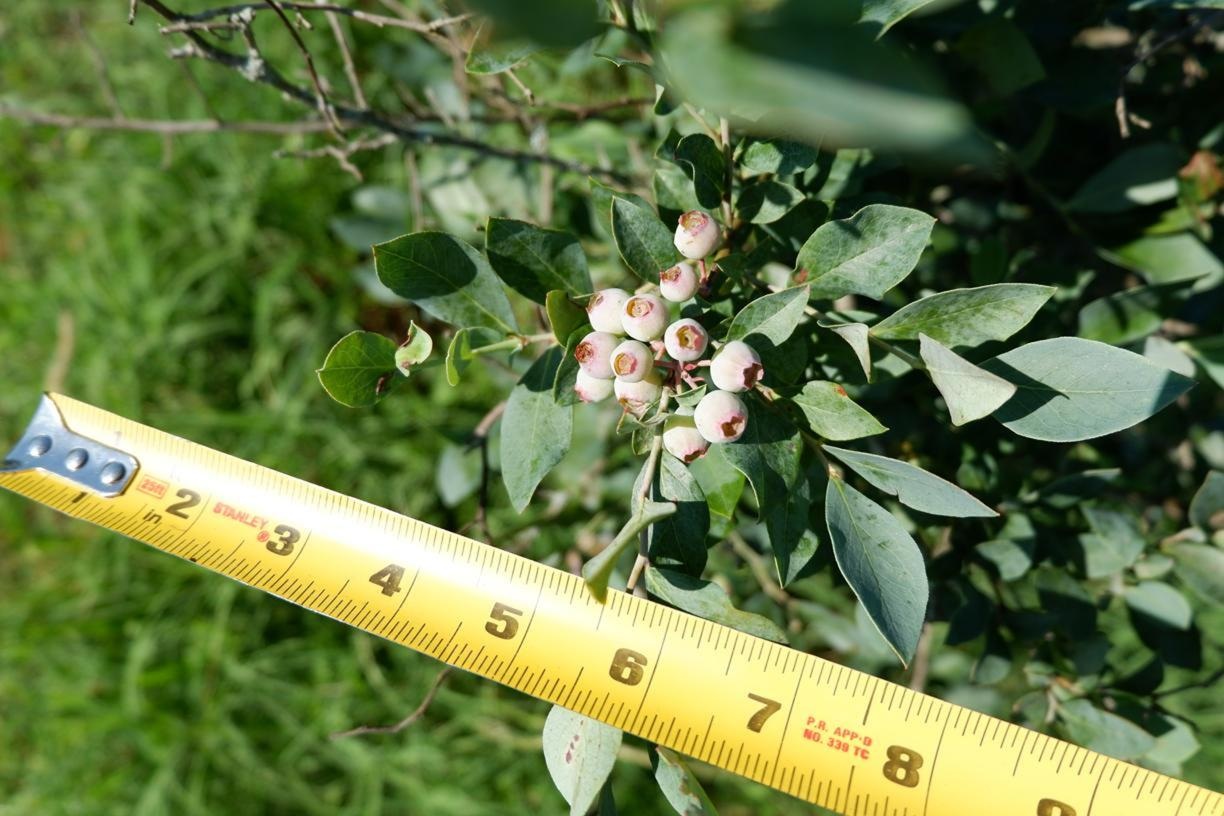Immature: (694, 390, 749, 444), (710, 340, 765, 392), (663, 405, 713, 462), (674, 210, 722, 259), (586, 288, 633, 338), (622, 294, 671, 341), (613, 367, 663, 413), (575, 331, 620, 379), (664, 318, 709, 361), (611, 341, 654, 383), (659, 264, 699, 302), (574, 368, 616, 403)
